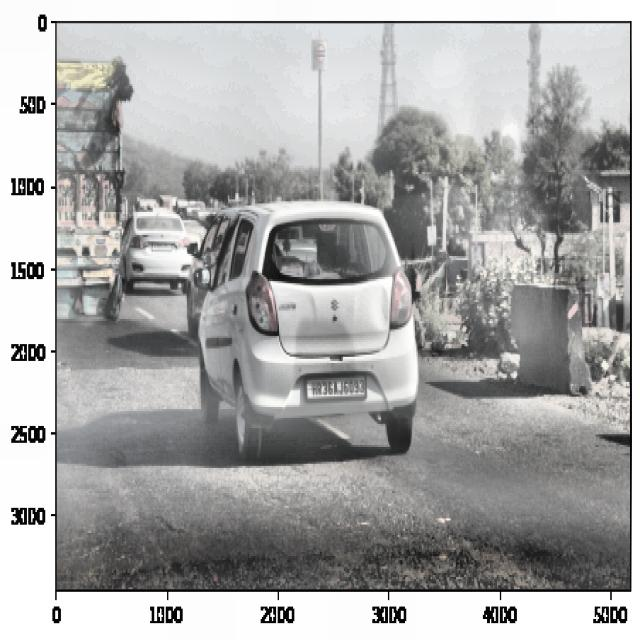license_plate: (305, 371, 368, 402)
